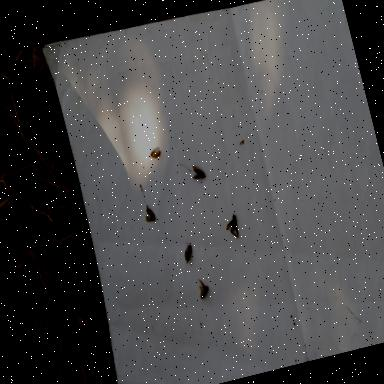pbw: (222, 212, 240, 240), (195, 275, 211, 299), (181, 240, 195, 264), (188, 162, 206, 180), (142, 202, 156, 224), (148, 144, 162, 160)
